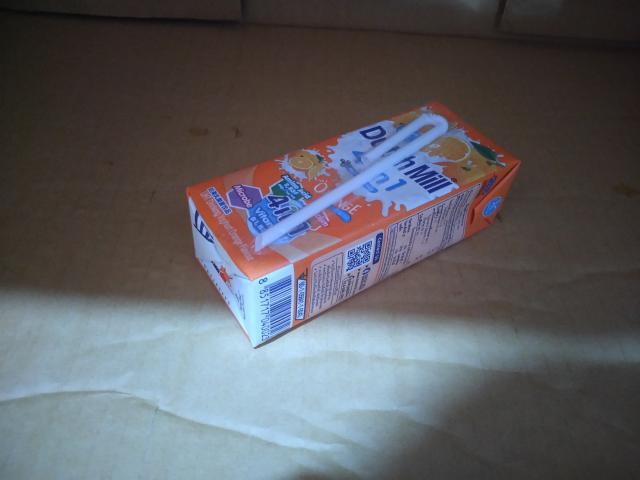drink_box: (142, 69, 556, 386)
